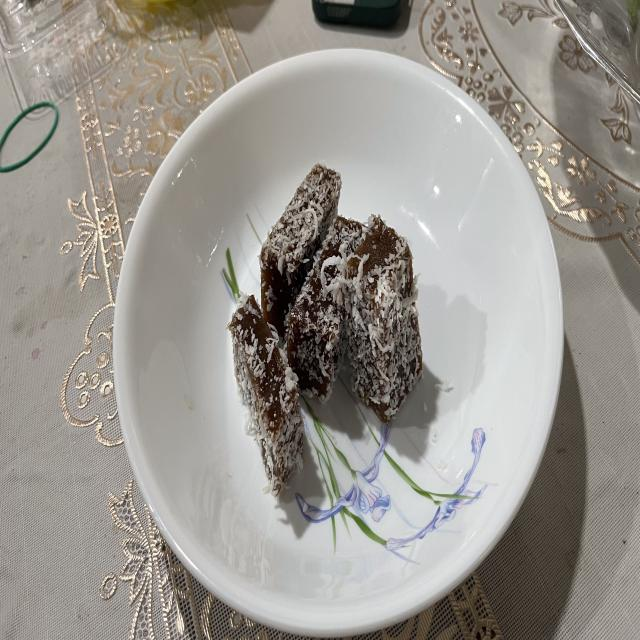kaswi: (345, 216, 422, 422), (228, 296, 304, 496), (288, 216, 364, 402), (260, 164, 341, 338)
